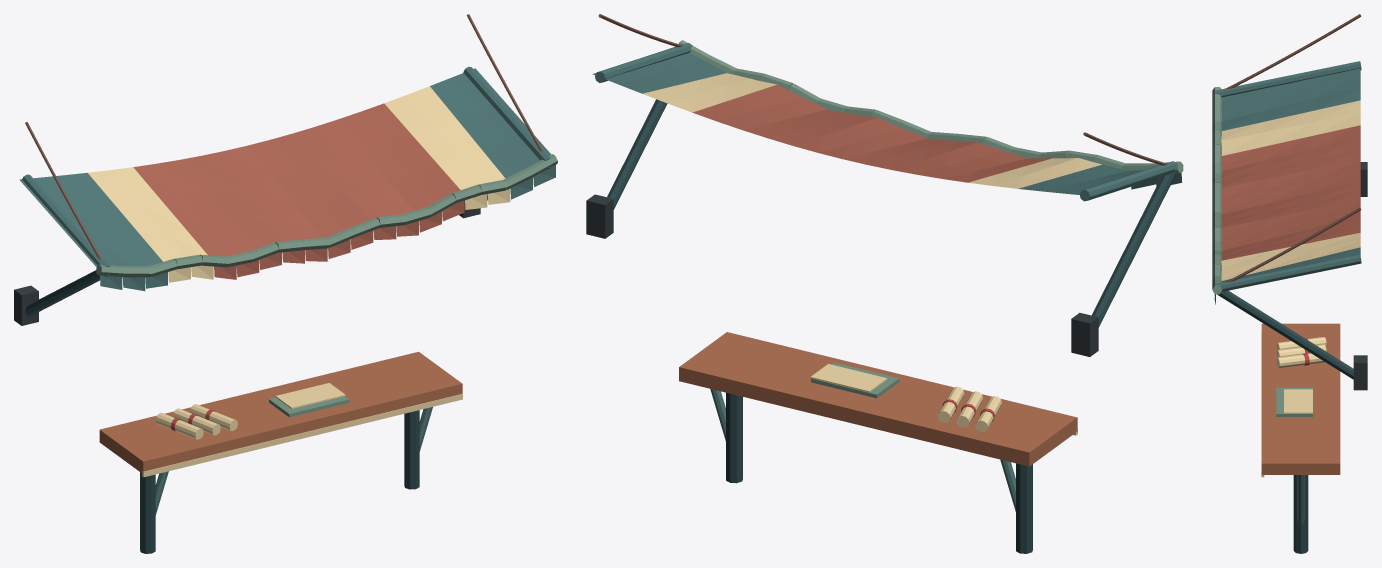
The model's file is DispatchHatch.glb.
The picture shows the model from 3 angles, left to right: view 1: azimuth 30°, elevation 25°; view 2: azimuth 150°, elevation 25°; view 3: azimuth 270°, elevation 25°; orthographic projection. The views are drawn at different scales.
Visible parts, largest first — view 1: DispatchHatch; view 2: DispatchHatch; view 3: DispatchHatch.
Part boxes in pixels (x1,y1,x2,y2): DispatchHatch: (14,14,557,553); DispatchHatch: (586,14,1183,553); DispatchHatch: (1212,14,1367,553).
Size of the model in its own units: 3.75 by 3.33 by 1.22.
